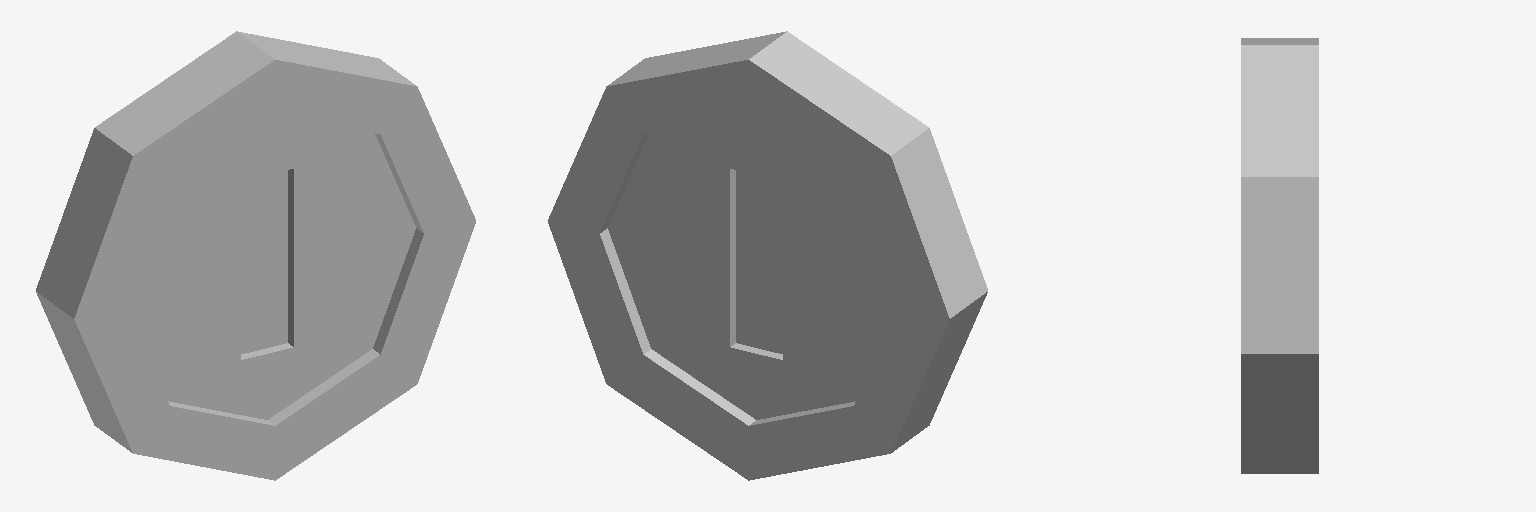
File: coin.obj
3 renders of one model, left to right at view 1: azimuth 30°, elevation 25°; view 2: azimuth 150°, elevation 25°; view 3: azimuth 270°, elevation 25°, orthographic.
Parts seen in each view (by area): view 1: isl_Coin_01_DEF.obj; view 2: isl_Coin_01_DEF.obj; view 3: isl_Coin_01_DEF.obj.
Boxes of the visible parts, <box> form: isl_Coin_01_DEF.obj: <box>36,31,475,480</box>; isl_Coin_01_DEF.obj: <box>548,31,987,480</box>; isl_Coin_01_DEF.obj: <box>1241,38,1318,473</box>.
Size of the model in its own units: 0.45 by 0.45 by 0.075.